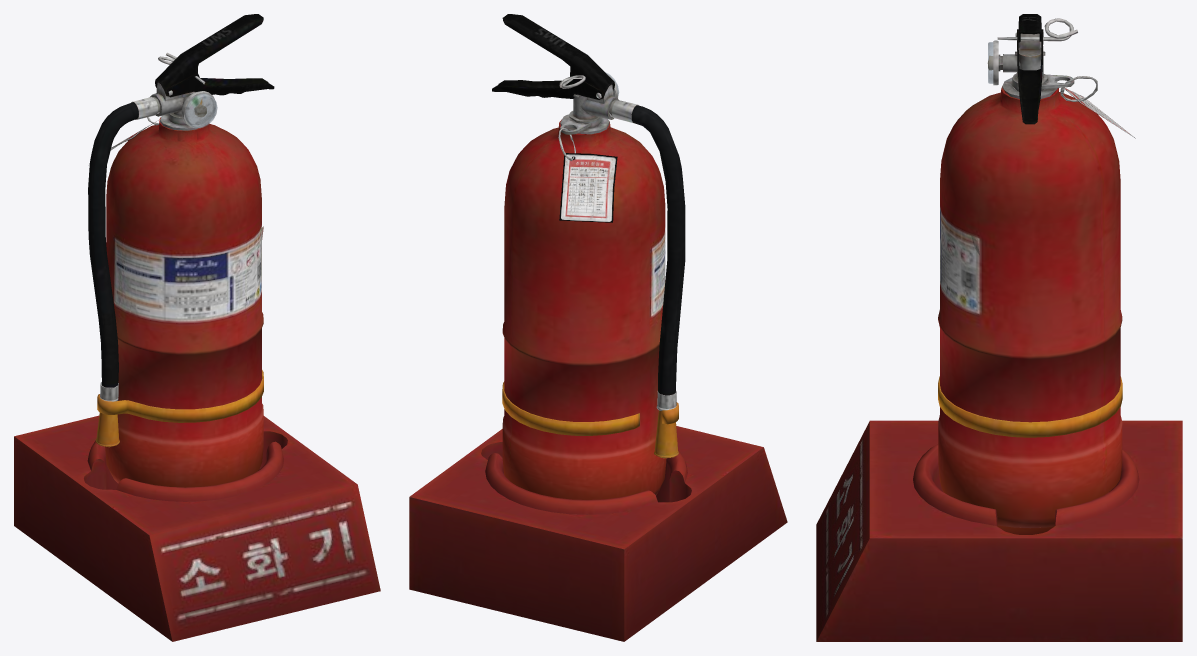
The model's file is korean_fire_extinguisher_01.glb.
3 views of the same model, side by side, from view 1: azimuth 30°, elevation 25°; view 2: azimuth 150°, elevation 25°; view 3: azimuth 270°, elevation 25° (orthographic). The views are drawn at different scales.
Visible parts, largest first — view 1: korean_fire_extinguisher_01; view 2: korean_fire_extinguisher_01; view 3: korean_fire_extinguisher_01.
Boxes of the visible parts, bbox=[...] form: korean_fire_extinguisher_01: bbox=[14, 14, 380, 641]; korean_fire_extinguisher_01: bbox=[409, 14, 787, 641]; korean_fire_extinguisher_01: bbox=[816, 14, 1182, 641].
Bounding box in the file's own units: 0.279 × 0.6591 × 0.3674.
3 materials, 3 textured.
